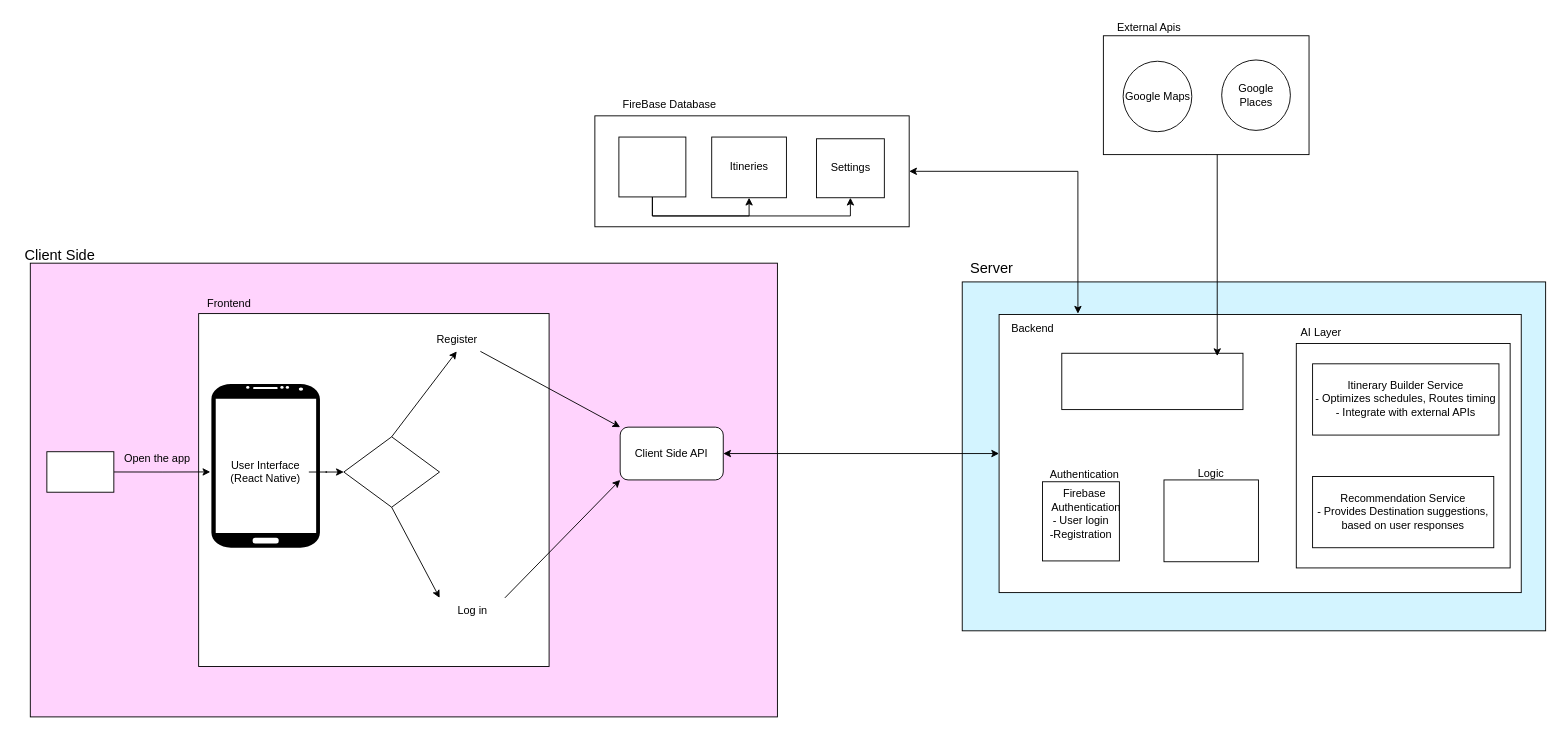
The diagram is 1562 pixels wide and 733 high, and some of its shapes have lost their labels. Here are the shapes that lost their labels. From the top down, the centre of each, then its label:
point (652, 166): Accounts
point (1152, 381): Data Aggregation - Fetch data from external APIs
point (80, 471): User
point (391, 471): Login
point (1210, 520): - Overall Functionality of the App - Data Flow
